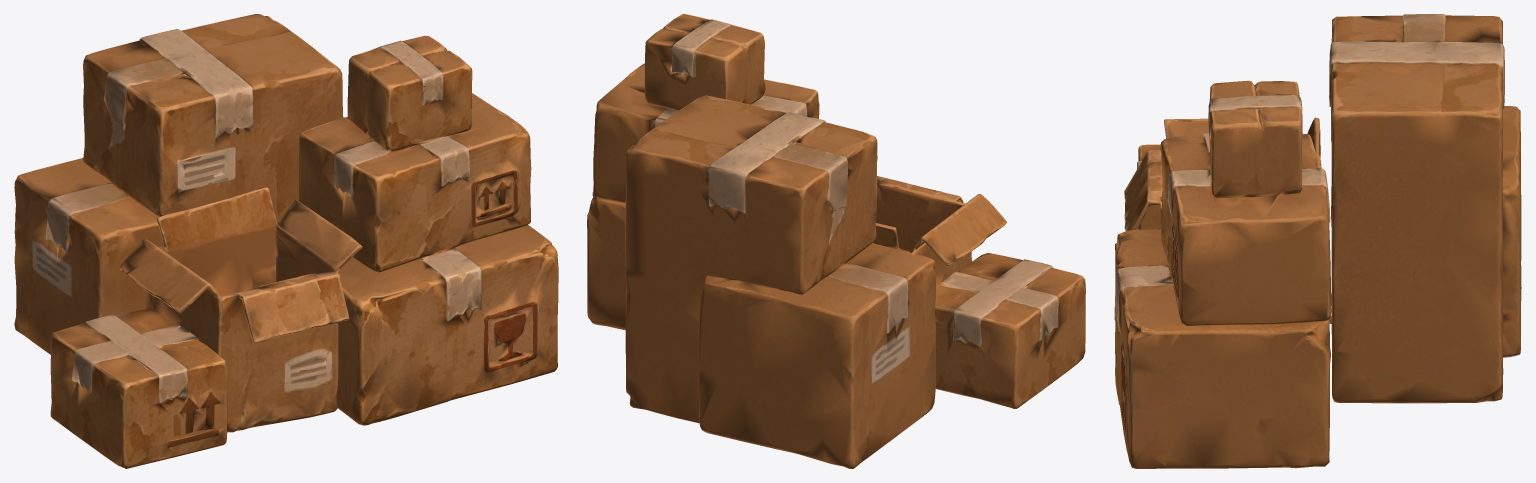
Rendered from d_boxes.glb.
3 views of the same model, side by side, from view 1: azimuth 30°, elevation 25°; view 2: azimuth 150°, elevation 25°; view 3: azimuth 270°, elevation 25° (orthographic). The views are drawn at different scales.
Bounding box in the file's own units: 1.9 × 1.24 × 1.41.
1 material, 1 textured.
